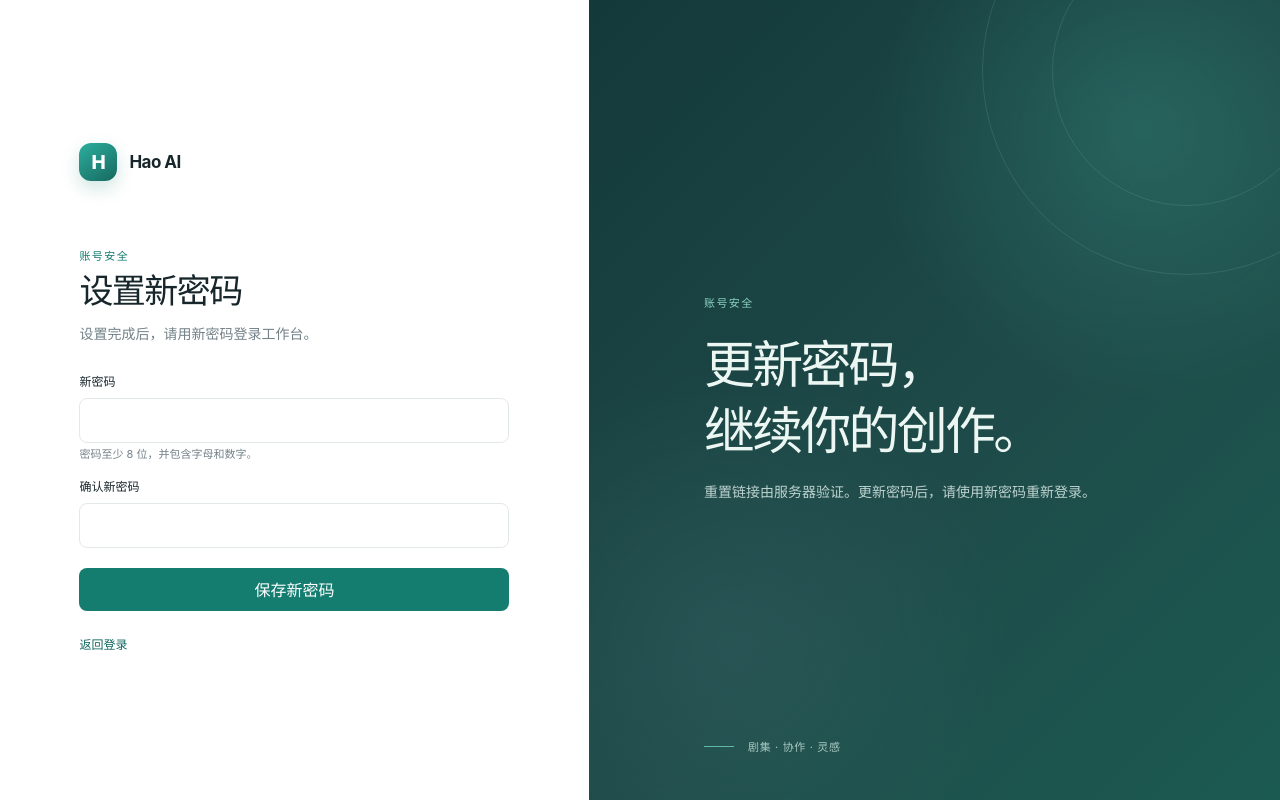
Test case: password reset route › resets the password, clears the in-memory token, and does not log in
The image size is (1280, 800).
Type "newSecret123" into the password field labelled "新密码" at x=294, y=420, box [79,398,509,443]
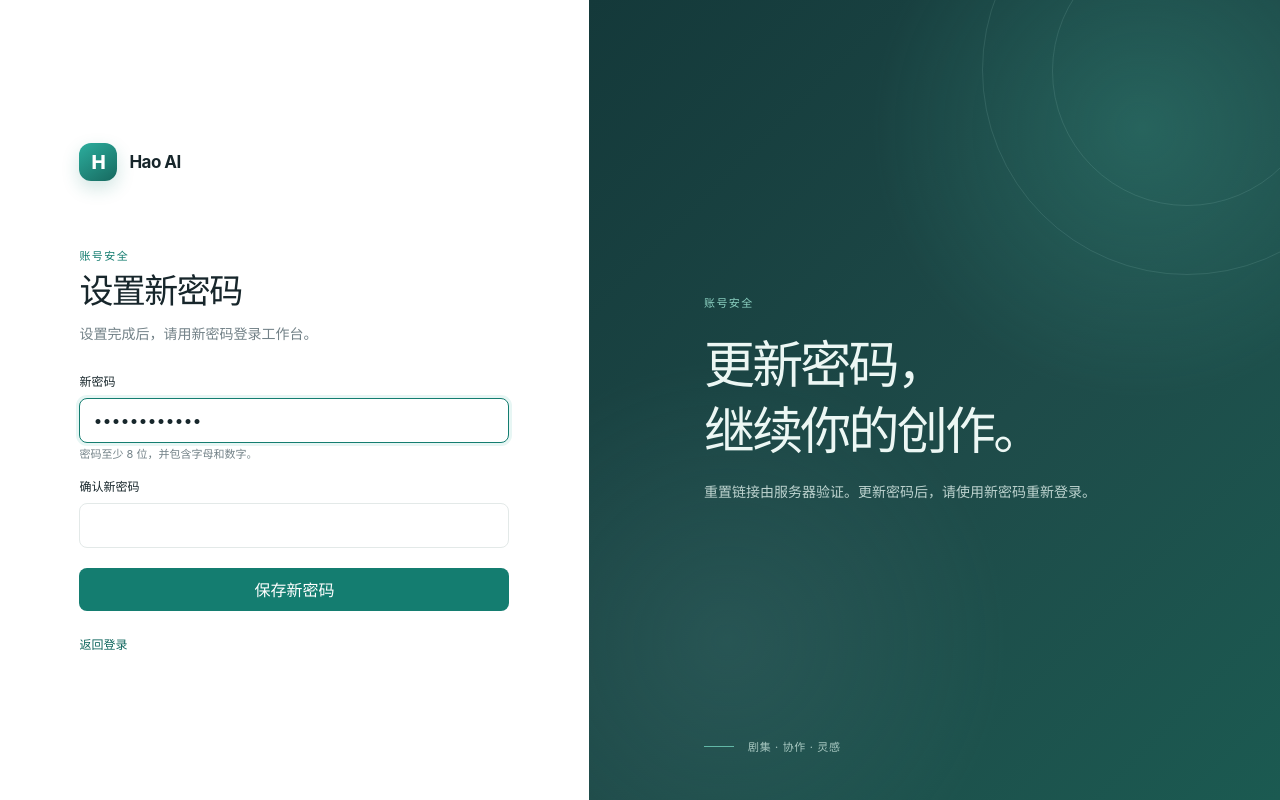
Type "newSecret123" into the password field labelled "确认新密码" at x=294, y=525, box [79,503,509,548]
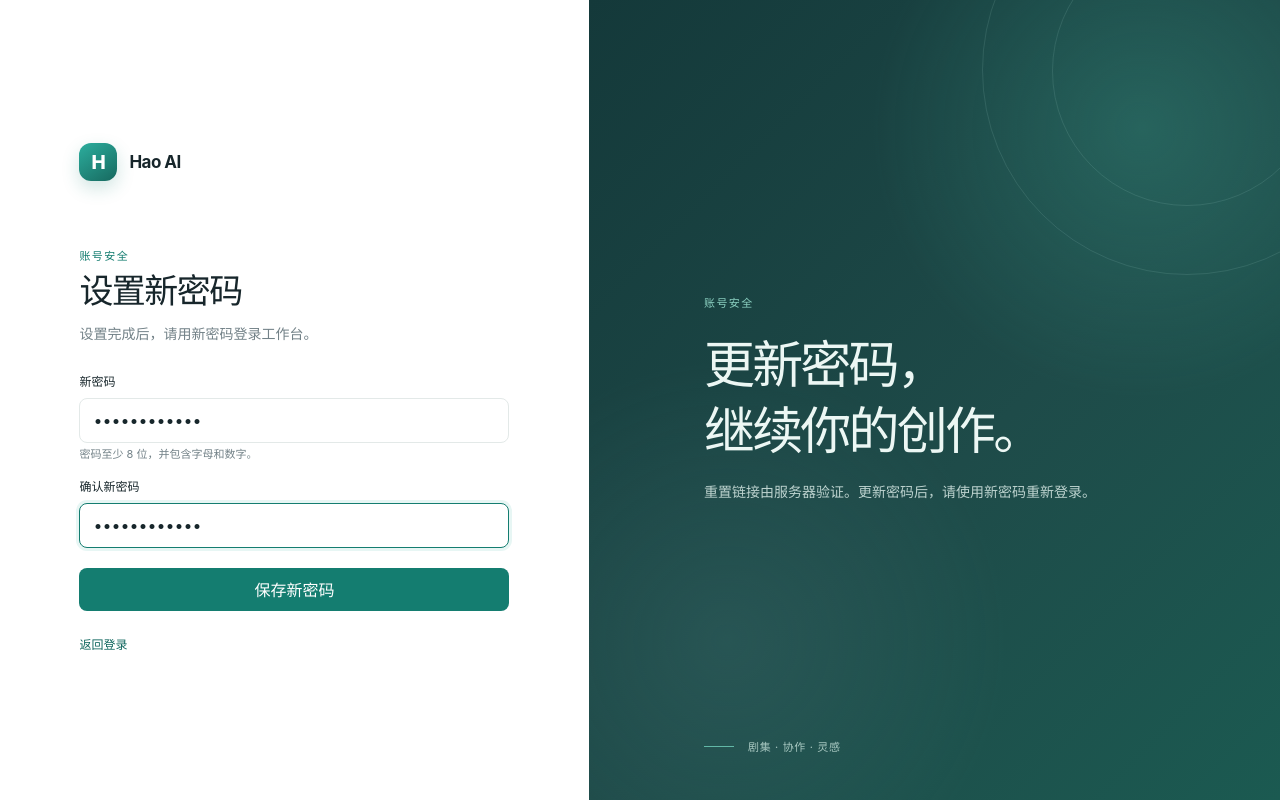
Click the button "保存新密码" at x=294, y=589, box [79,568,509,611]
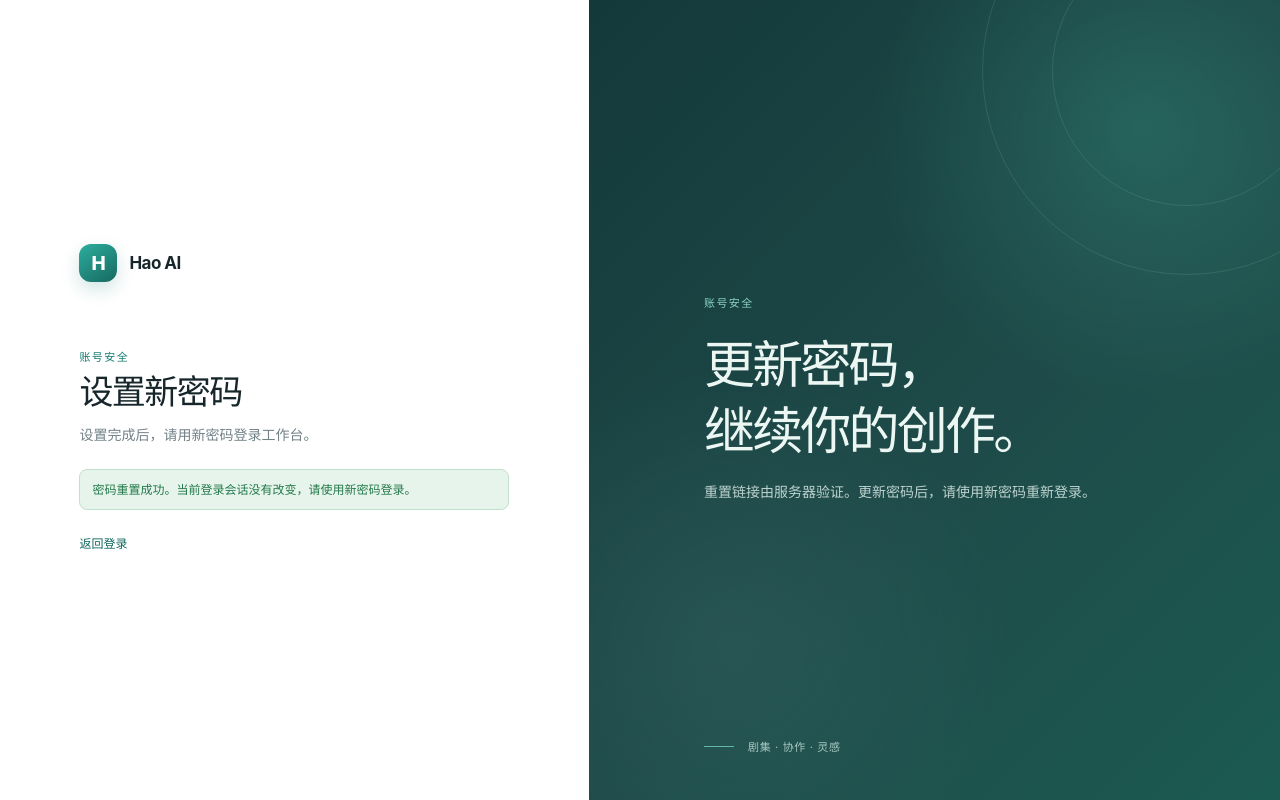
Check: the text "密码重置成功。当前登录会话没有改变，请使用新密码登录。" is shown, box [79,469,509,510]
